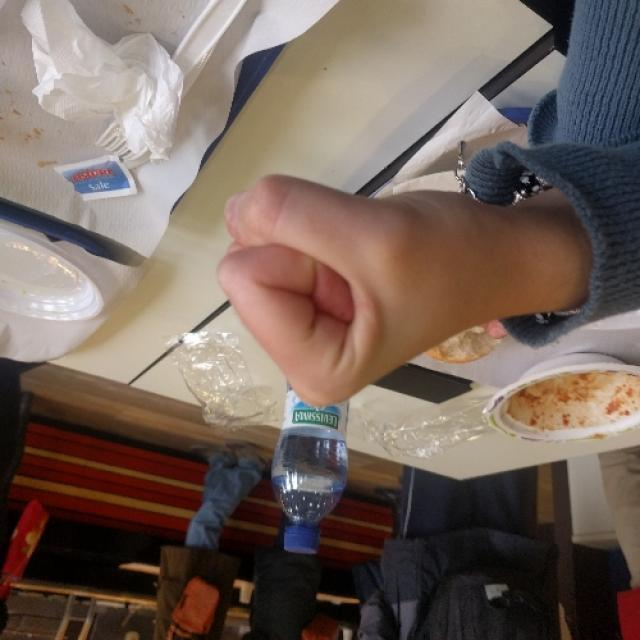rock: (220, 170, 506, 404)
